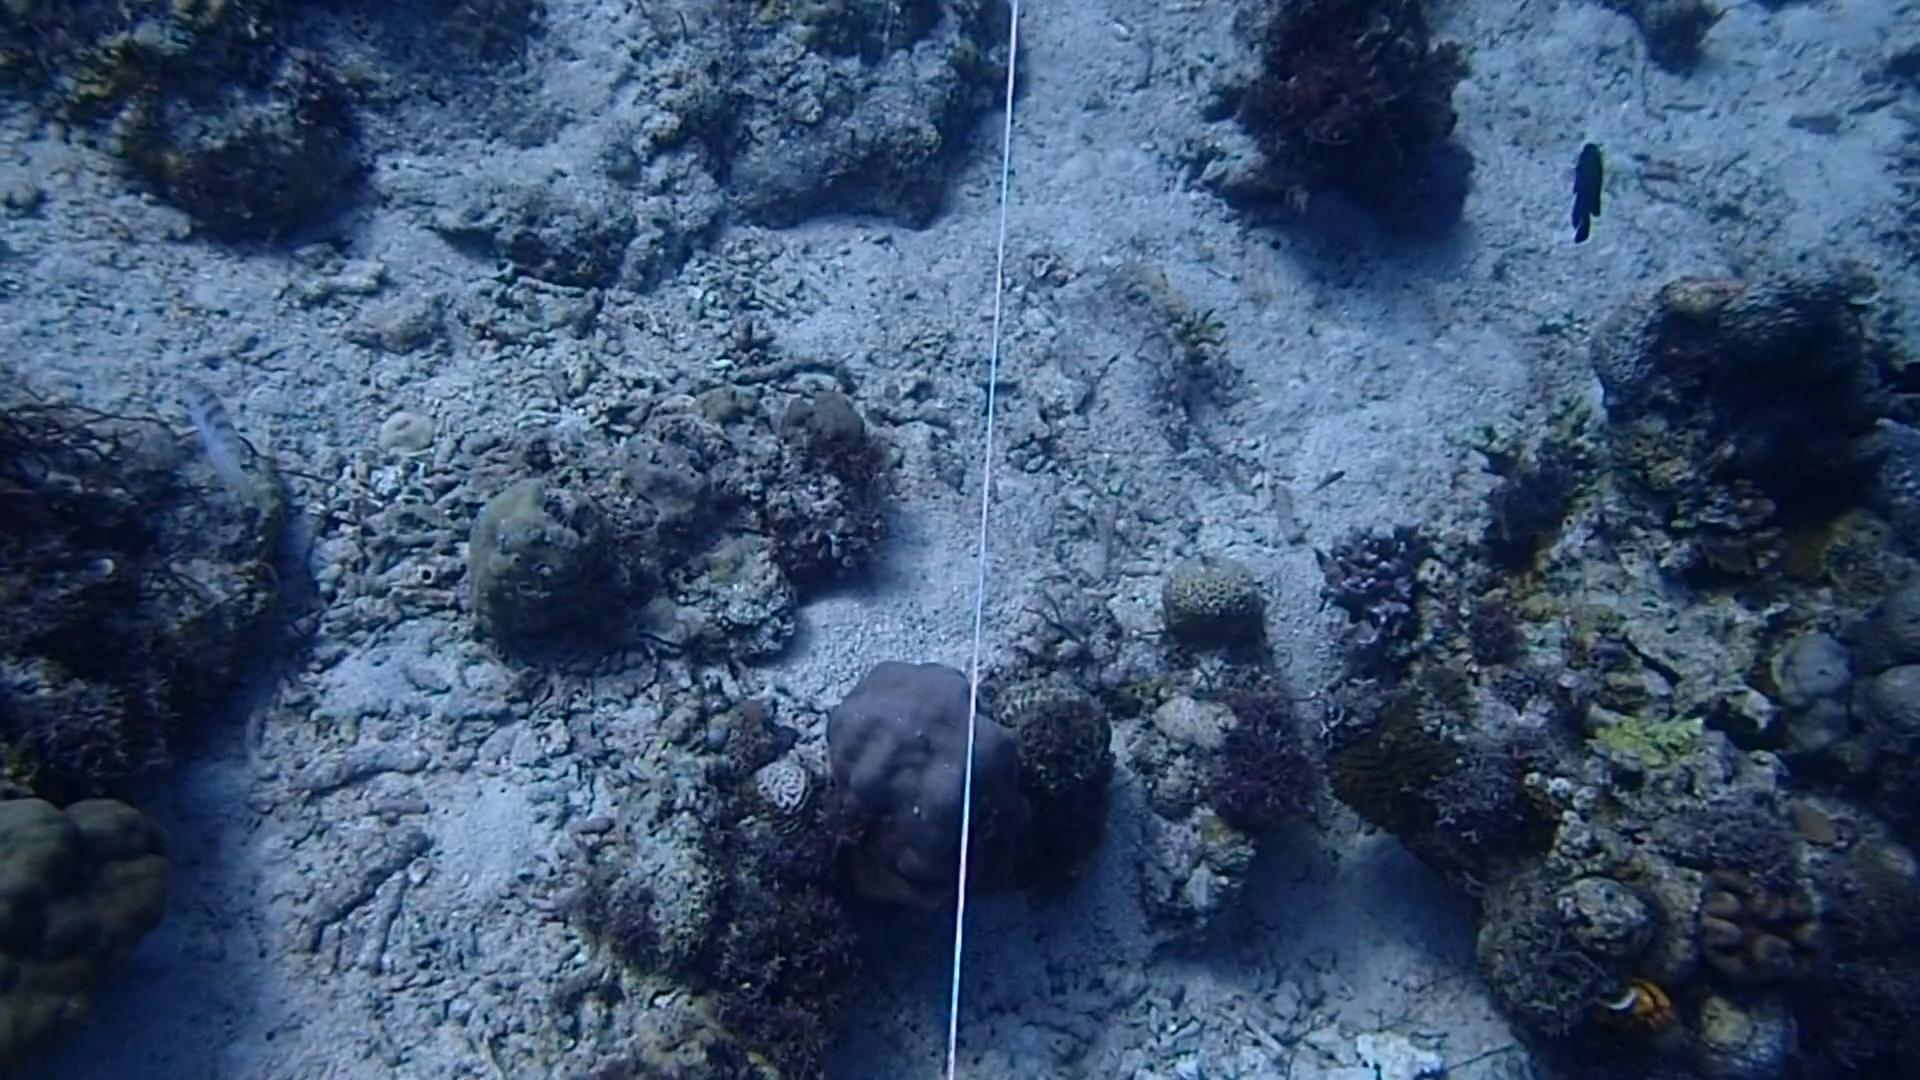Dark Fish: (1553, 132, 1610, 248)
Light Fish w Back Stripes: (157, 353, 252, 504)
